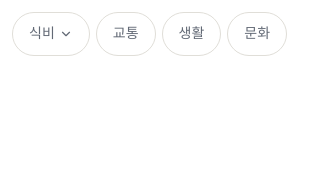
Test: CategoryChips › 소분류가 있는 대분류를 탭하면 선택되면서 소분류 행이 나타난다
Click the option with test id "category-chip-식비". click: (51,34)
box: x1=12 y1=12 x2=90 y2=56
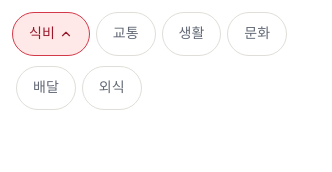
Check: the element with test id "category-child-row" is shown, box x1=16 y1=66 x2=142 y2=110
